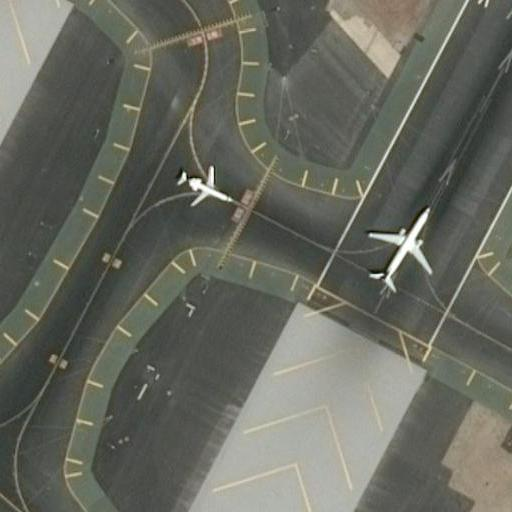Aircraft: (359, 194, 440, 295), (169, 155, 232, 210)
